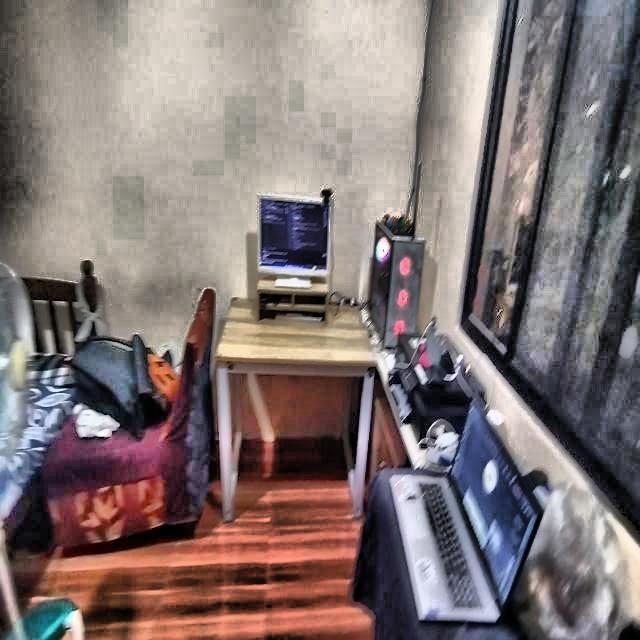mesa: (216, 288, 377, 538)
